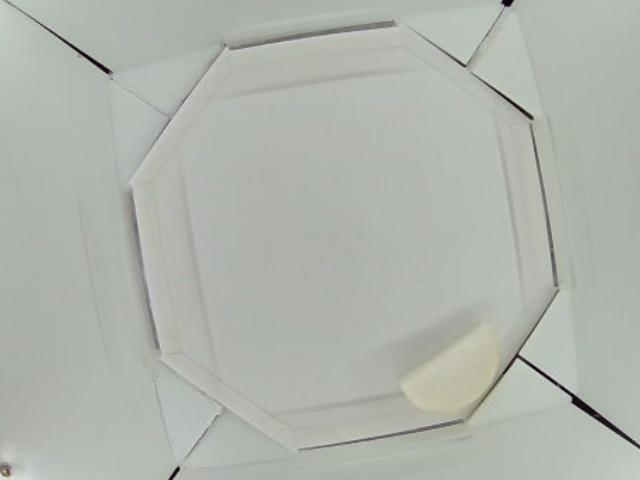Mooli: (404, 317, 494, 409)
